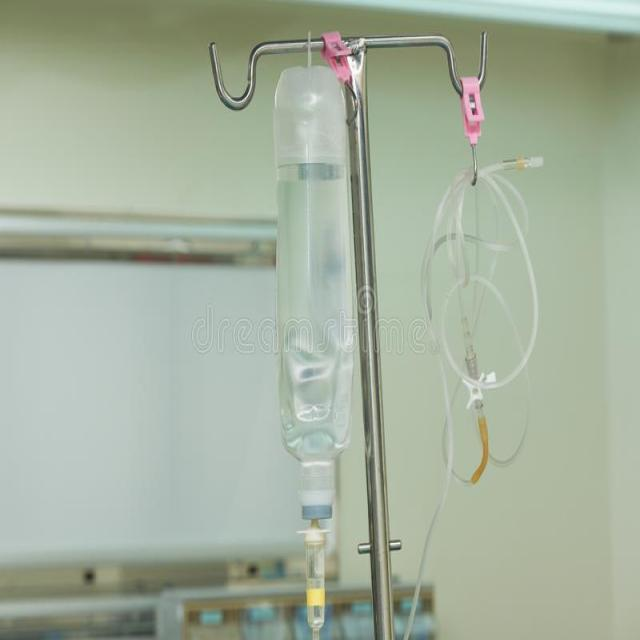B3: (268, 65, 354, 529)
